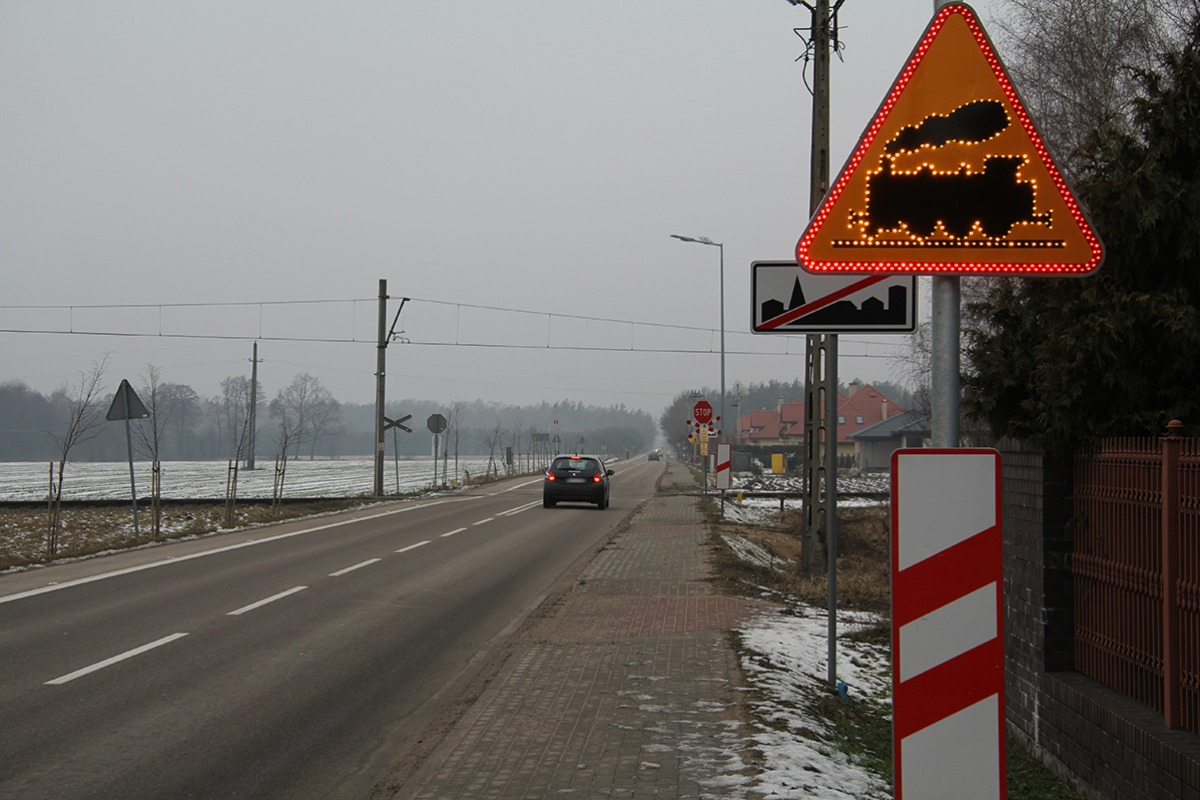a10: (828, 93, 1074, 256)
